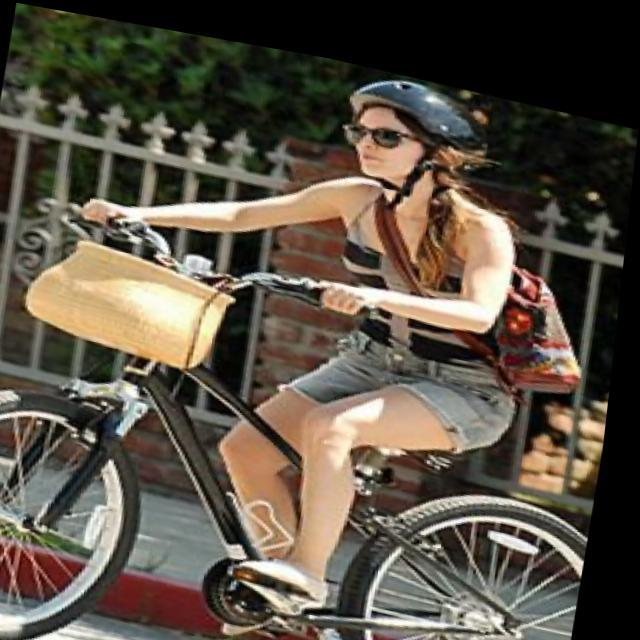Helmet: (329, 66, 484, 191)
